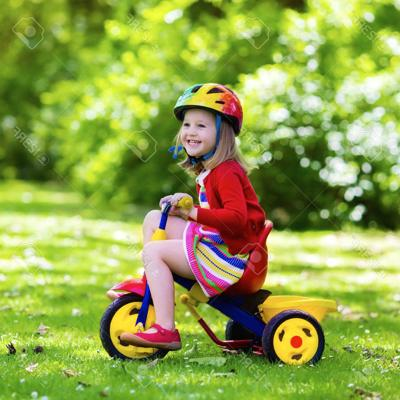With Helmet: (153, 77, 249, 166)
